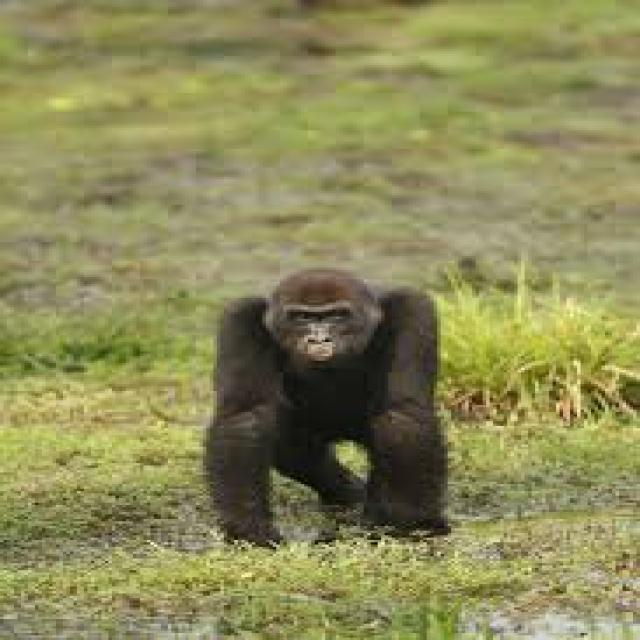Gorilla: (194, 264, 457, 548)
